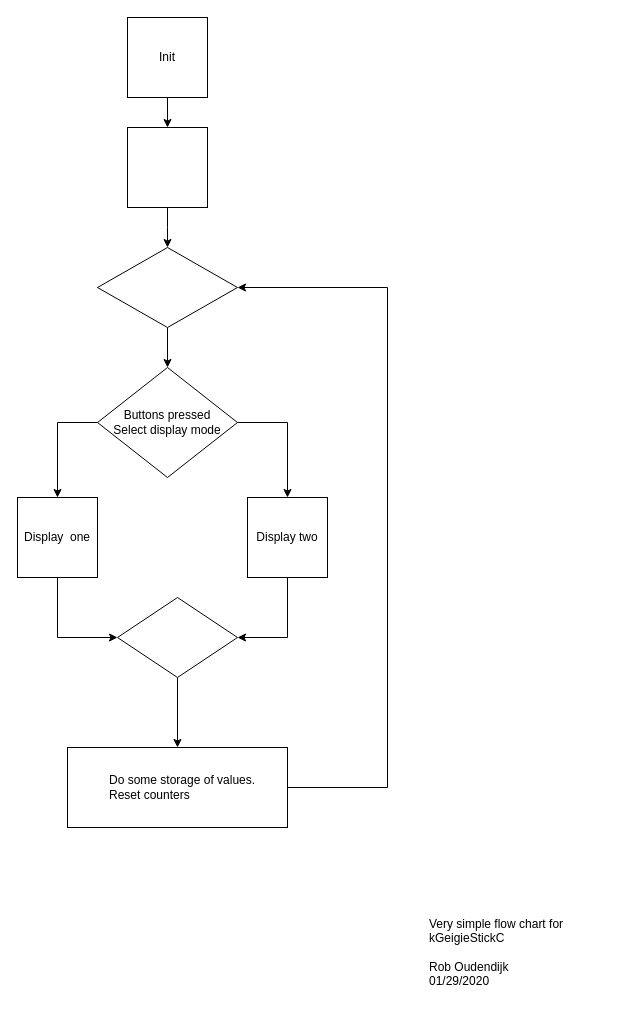
The diagram is 635 pixels wide and 1015 high, and some of its shapes have lost their labels. The box of each missing label's shape, as (x1, y1, x2, y2) in pixels:
main loop: (96, 246, 238, 328)
Startup count: (126, 126, 208, 208)
